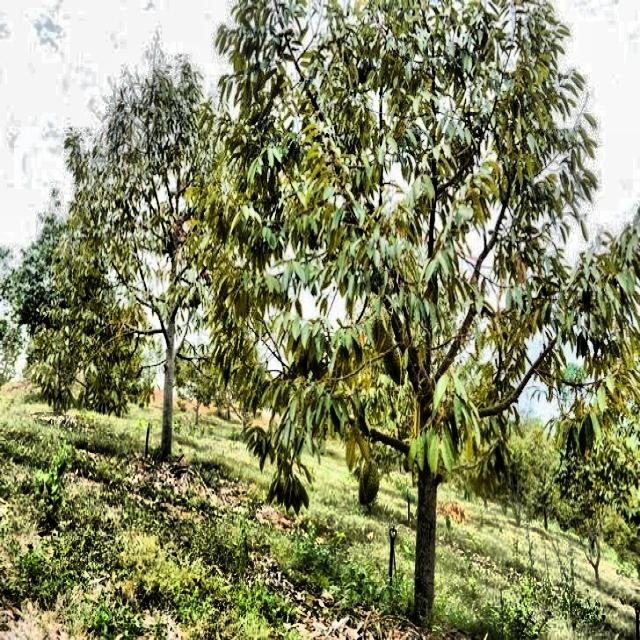arvore: (372, 196, 447, 628), (160, 188, 183, 469)
